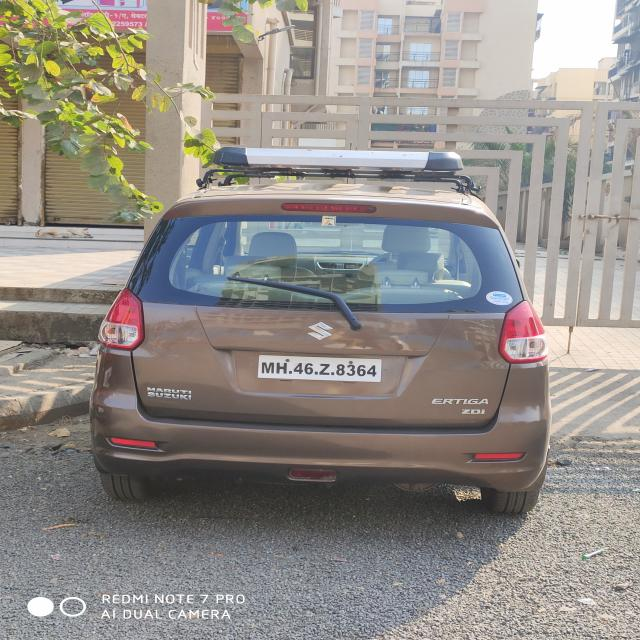Number-Plate: (261, 355, 380, 380)
